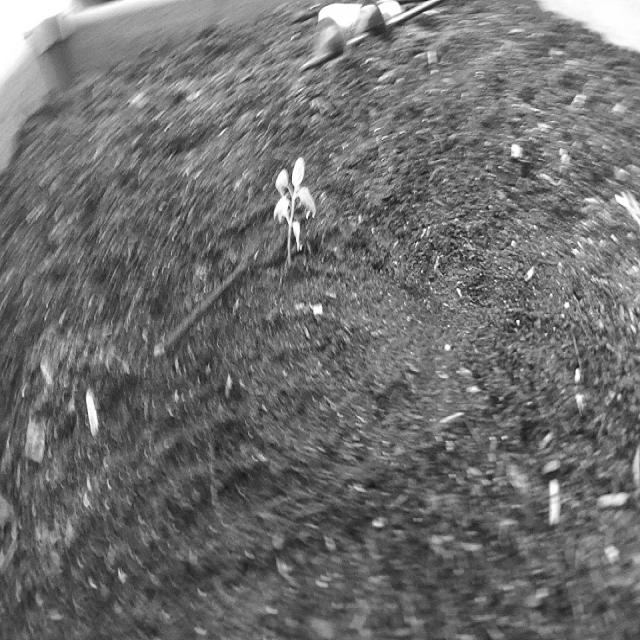Healthy: (271, 153, 319, 272)
